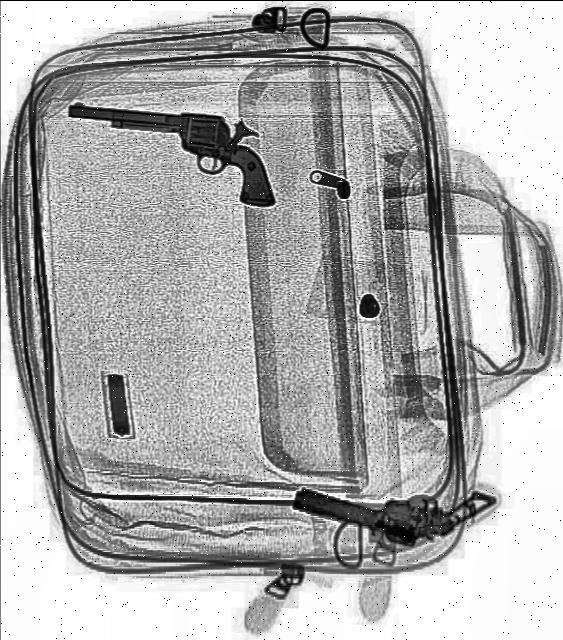Gun: (294, 446, 500, 562), (66, 105, 280, 207)
